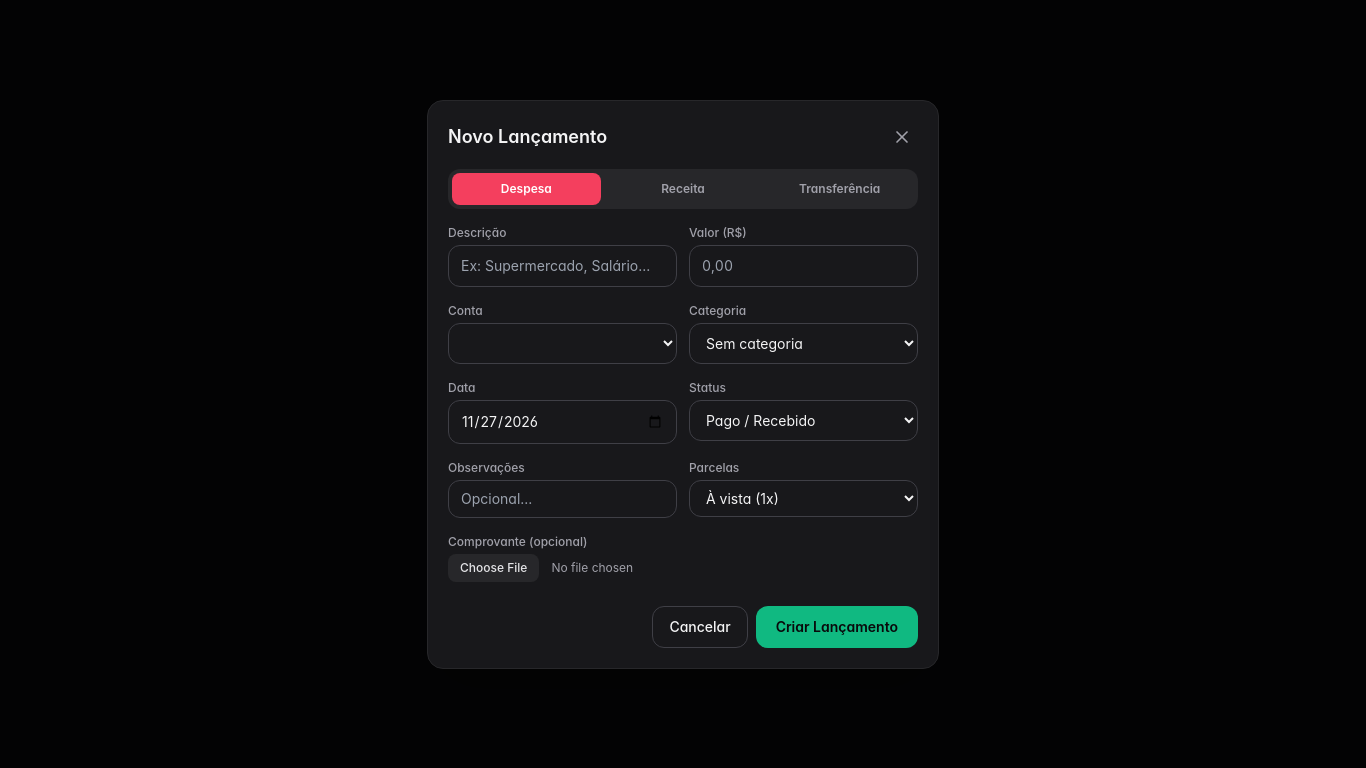
Test: TransactionModal › creates a transfer and validates missing account or zero amount
Later steps or results of the test are not shown.
In the field with placeholder "Ex: Supermercado, Salário...": [562, 266] box [448,244,677,286], type "Teste"
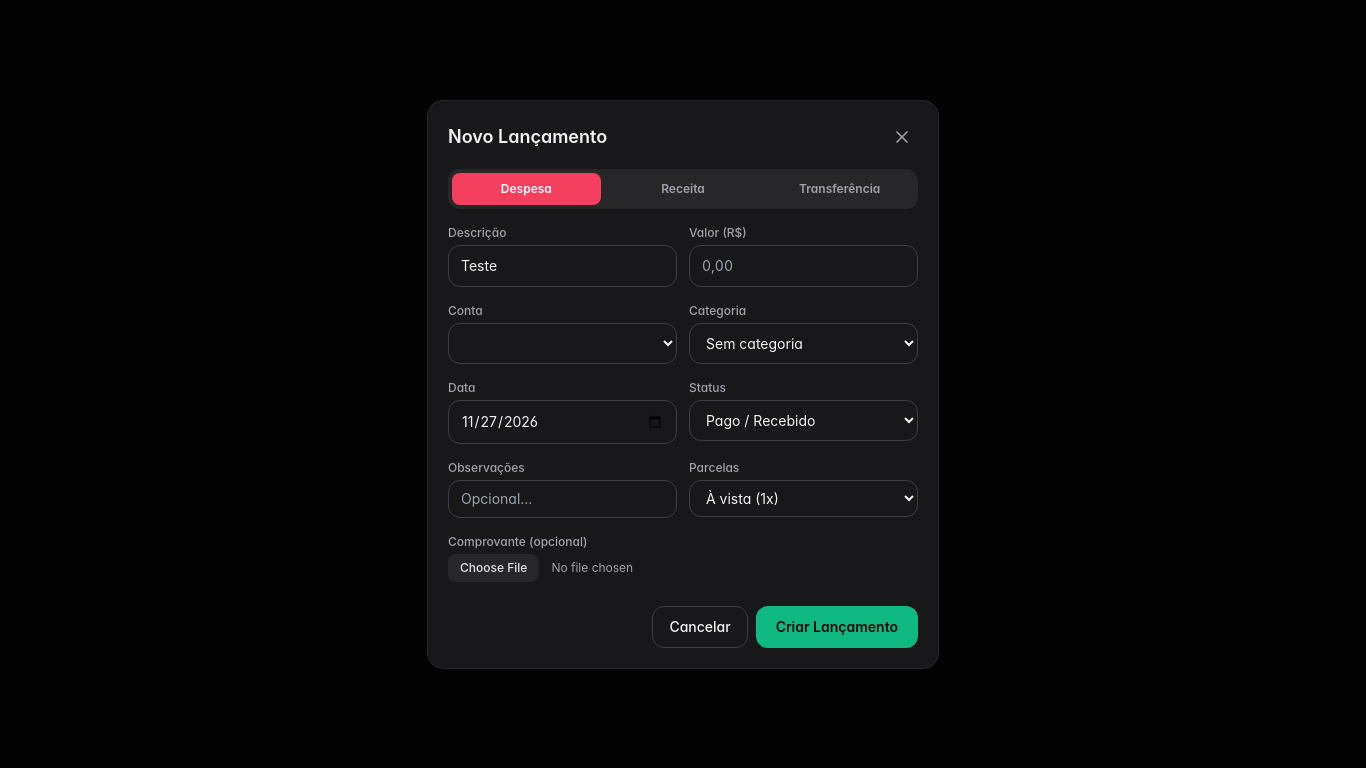
In the field with placeholder "0,00": [804, 266] box [689,244,918,286], type "50,00"
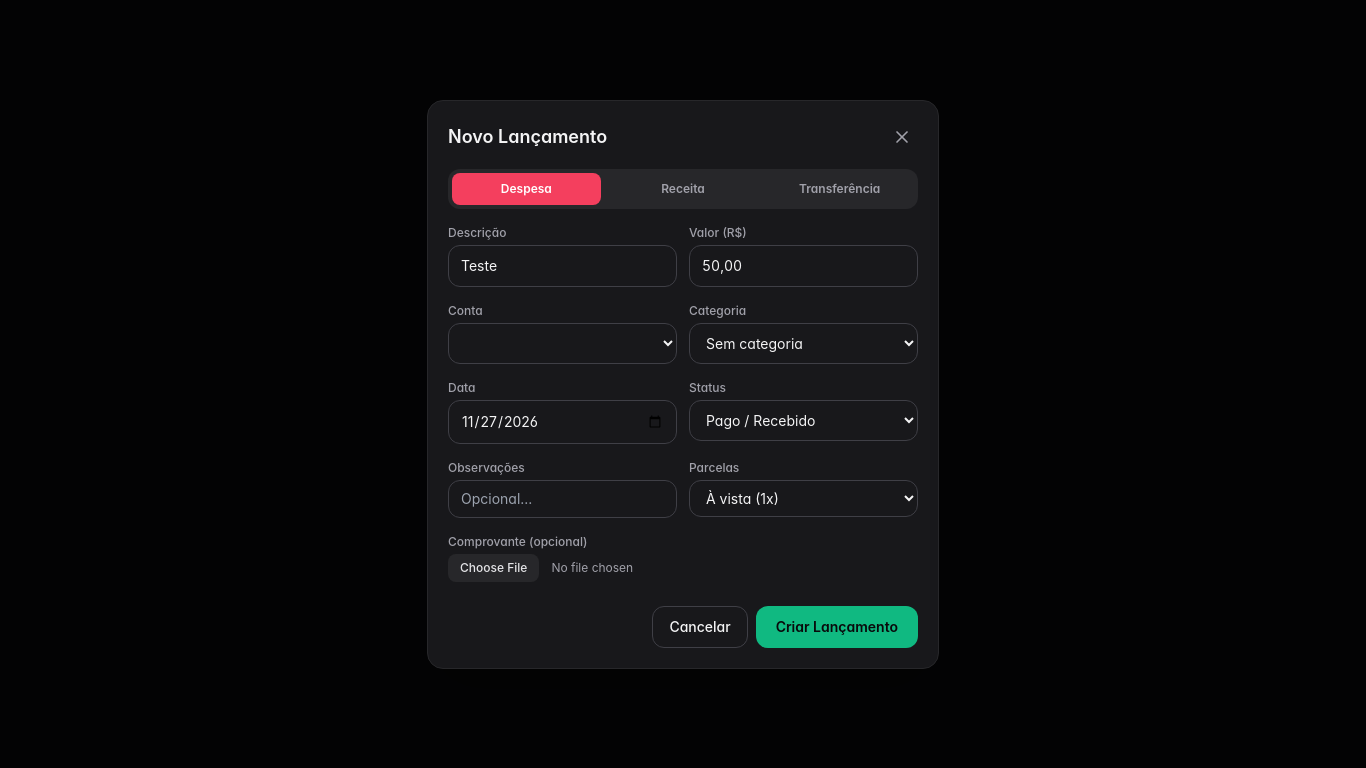
Submit the form named "Criar Lançamento", box [448,168,918,648]
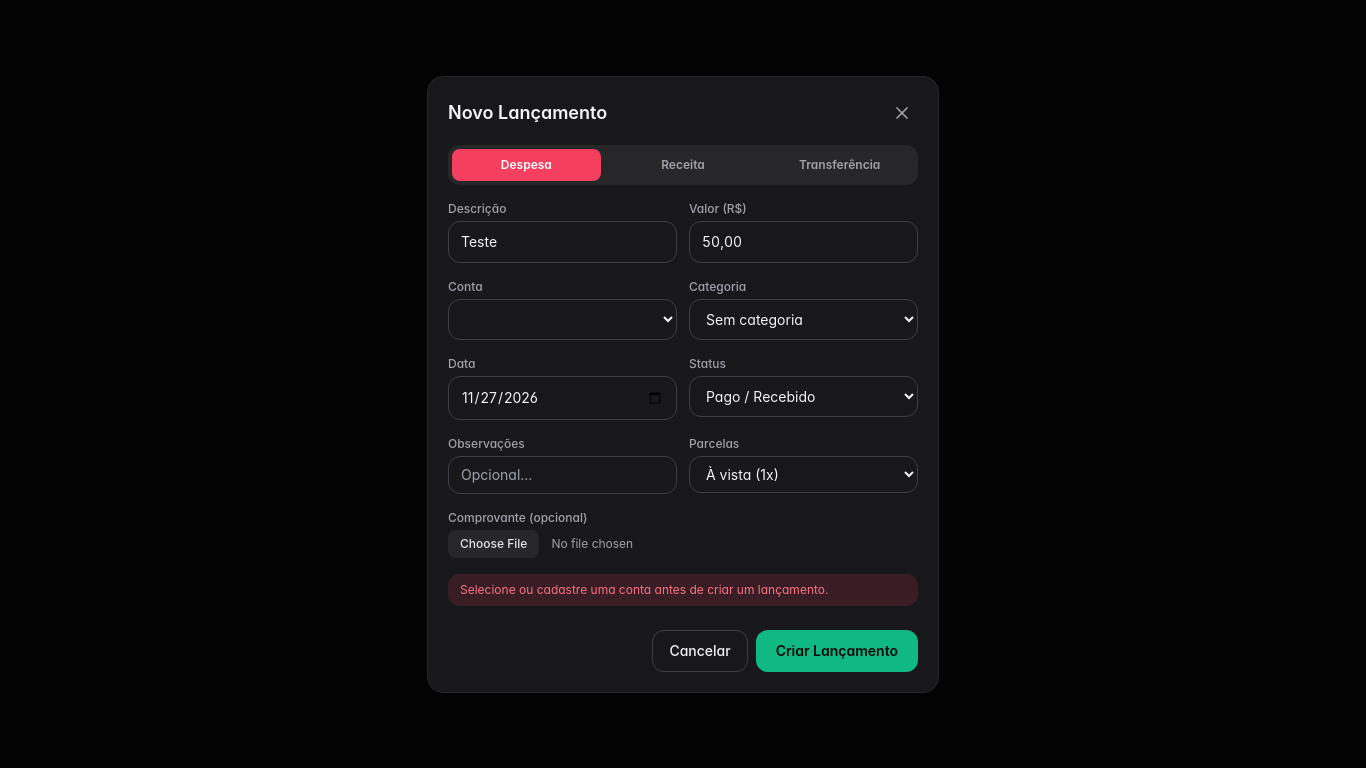
Now the text "Selecione ou cadastre uma conta antes de criar um lançamento." is shown, box [448,574,918,606]
